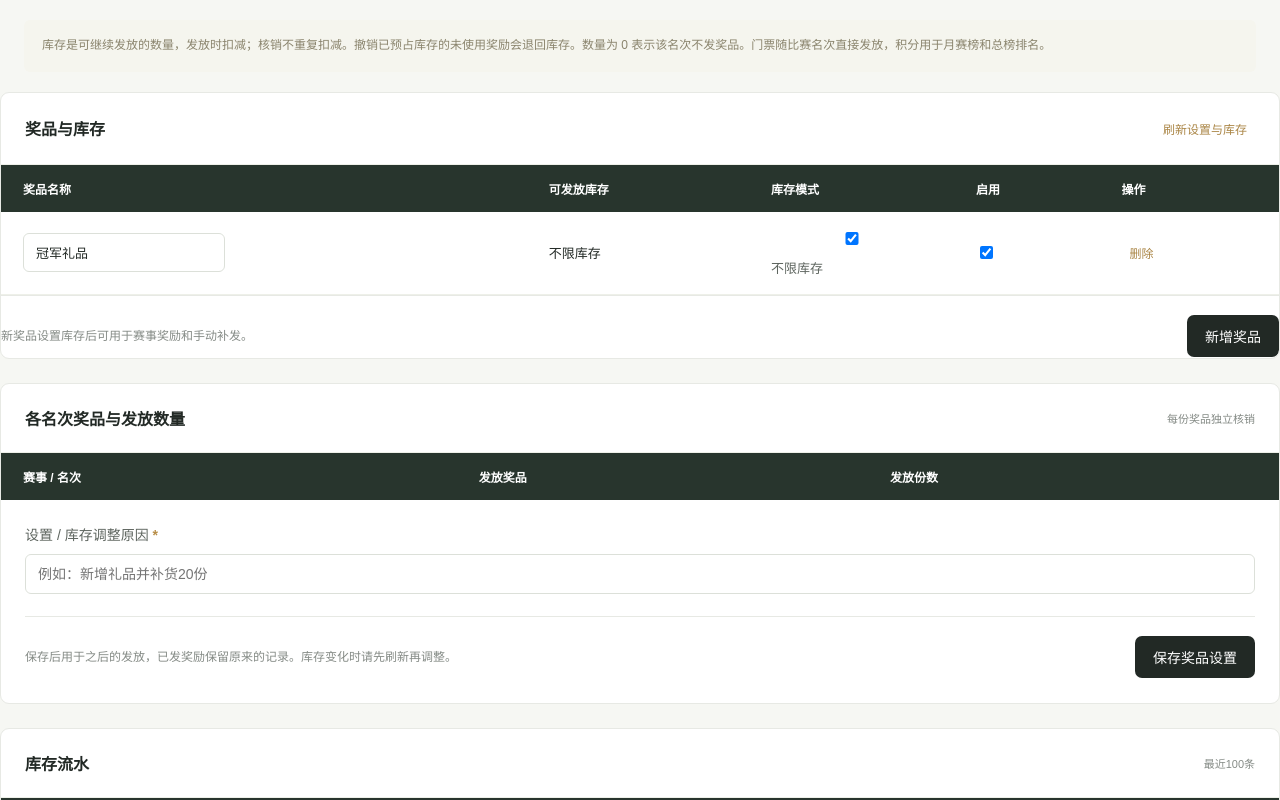
Test: 比赛规则仍在使用时显示删除失败，奖品继续保留
Click the button with aria-label "删除冠军礼品". click: (1141, 253)
box: 1121,239 -> 1161,266
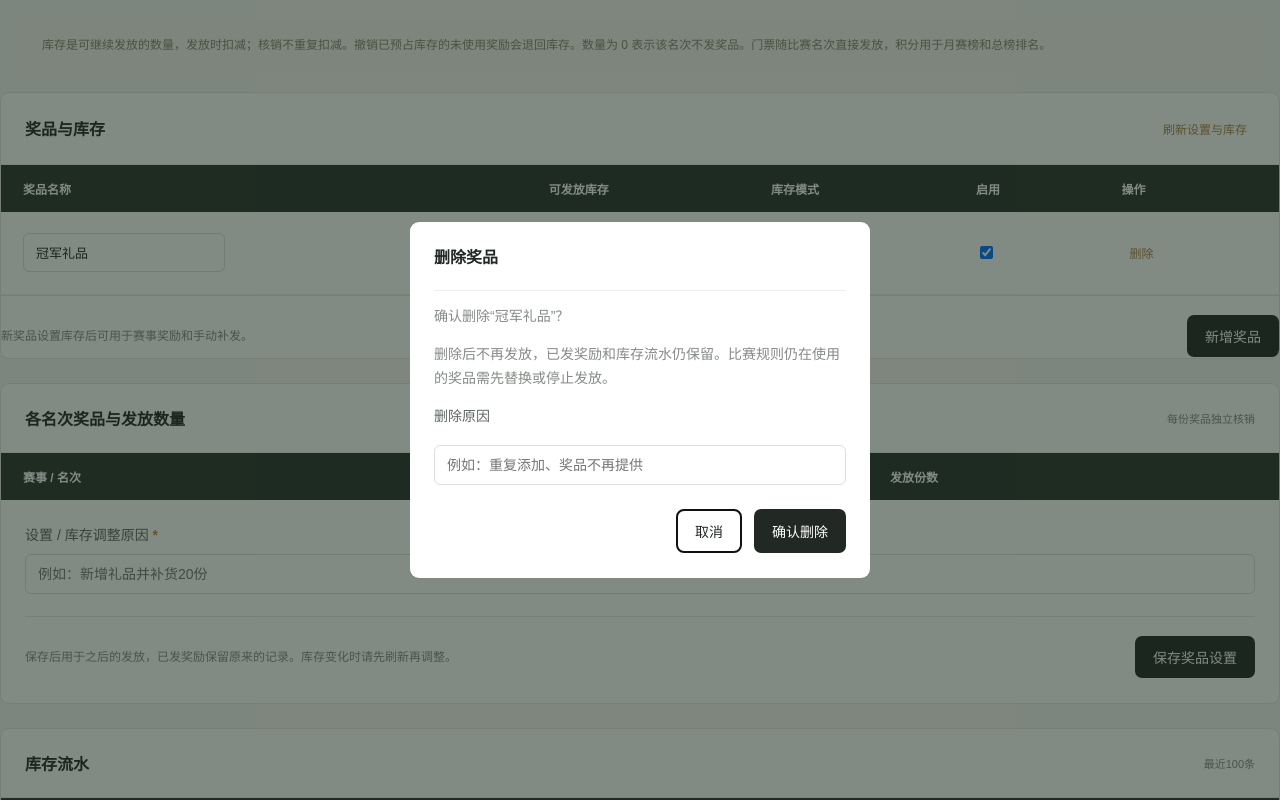
Type "不再提供" into the field labelled "删除原因". click: (640, 465)
box: 434,445 -> 846,485
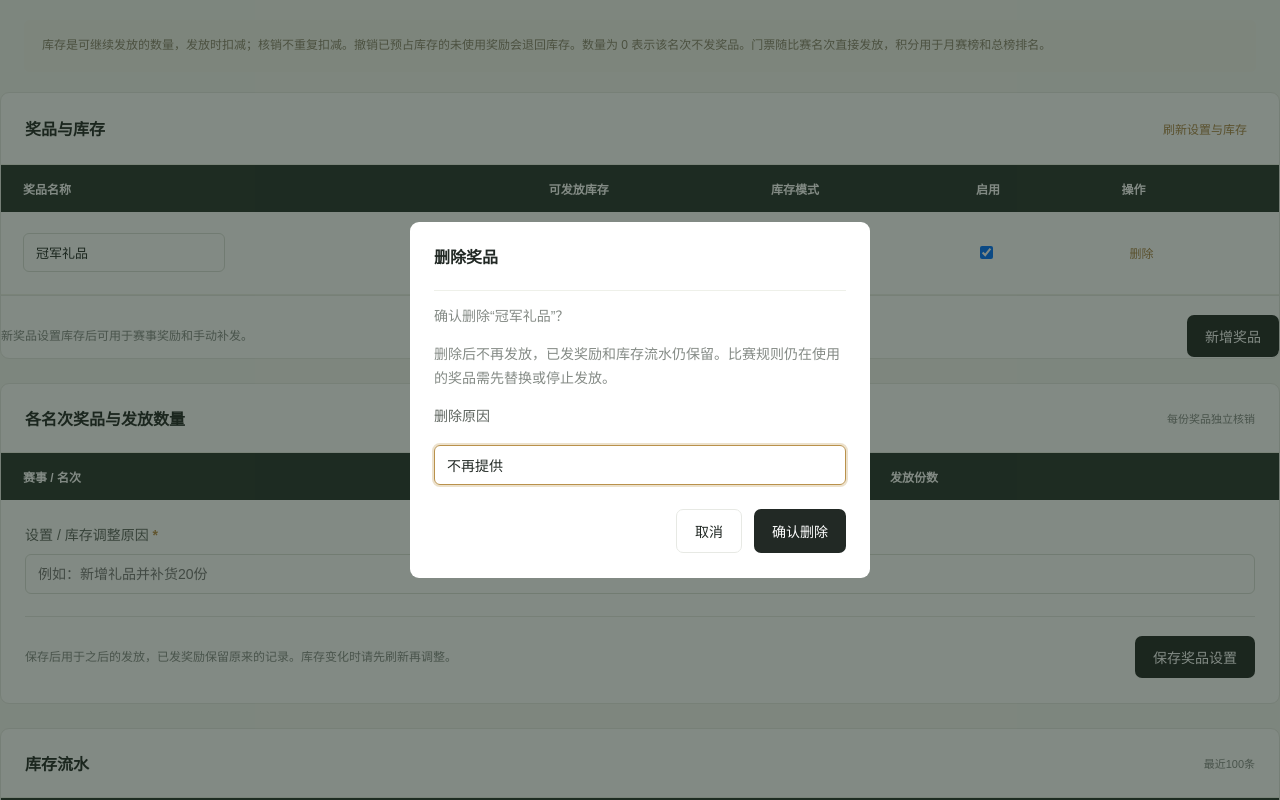
Click the button "确认删除". click: (800, 531)
box: 754,509 -> 846,553
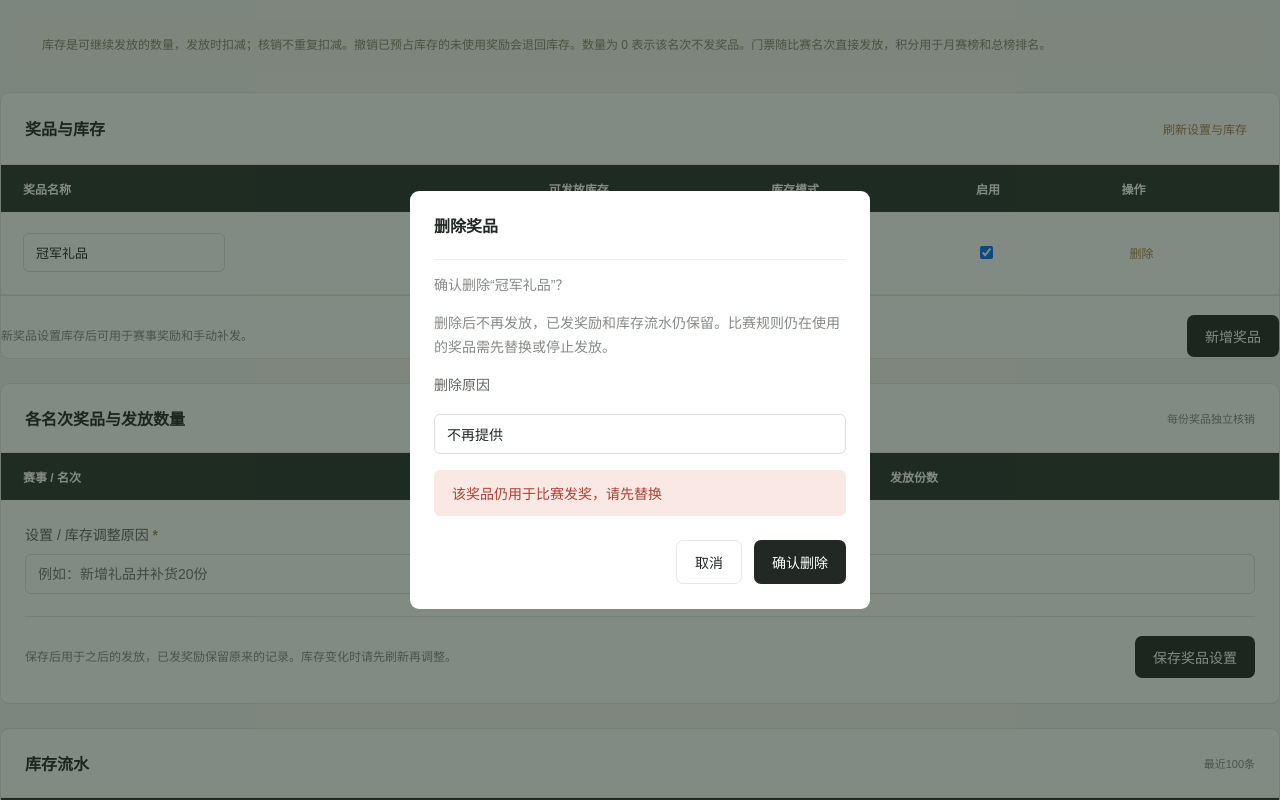
Check: the field named "GIFT奖品名称" is shown, box 23,233 -> 225,272
Check: the message reads "该奖品仍用于比赛发奖，请先替换", box 452,486 -> 662,502
